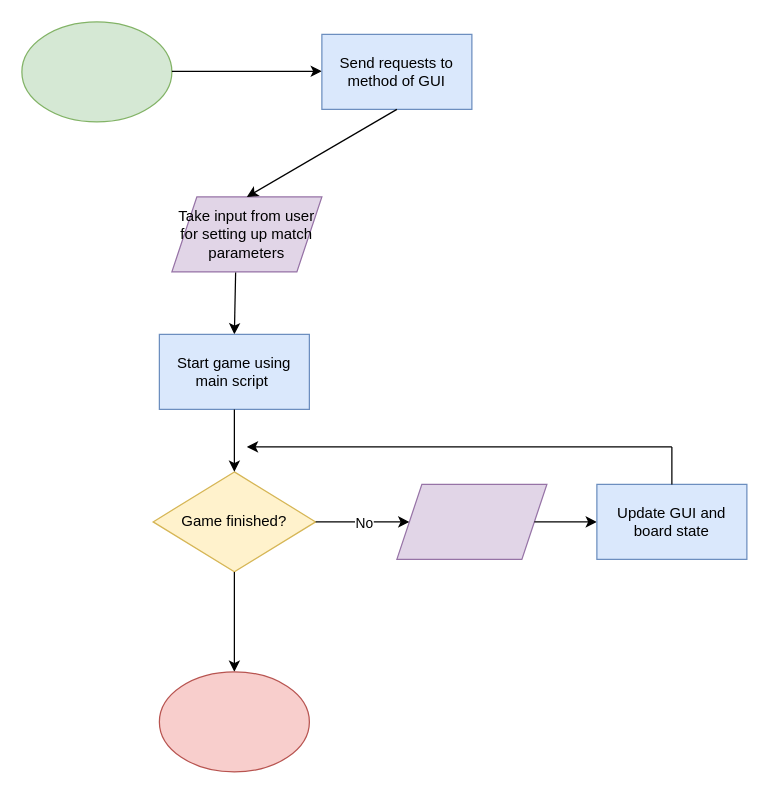
Some shapes in this 769 by 794 pixel diagram are drawn without their labels. Each missing label, with the centre of its shape:
End: the point at 233,721
Initialize magic bitboards and other chess engine things: the point at 96,71
Take legal move input: the point at 471,521
